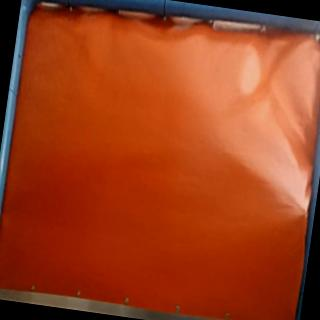Hit-hRxx: (296, 202, 312, 222)
